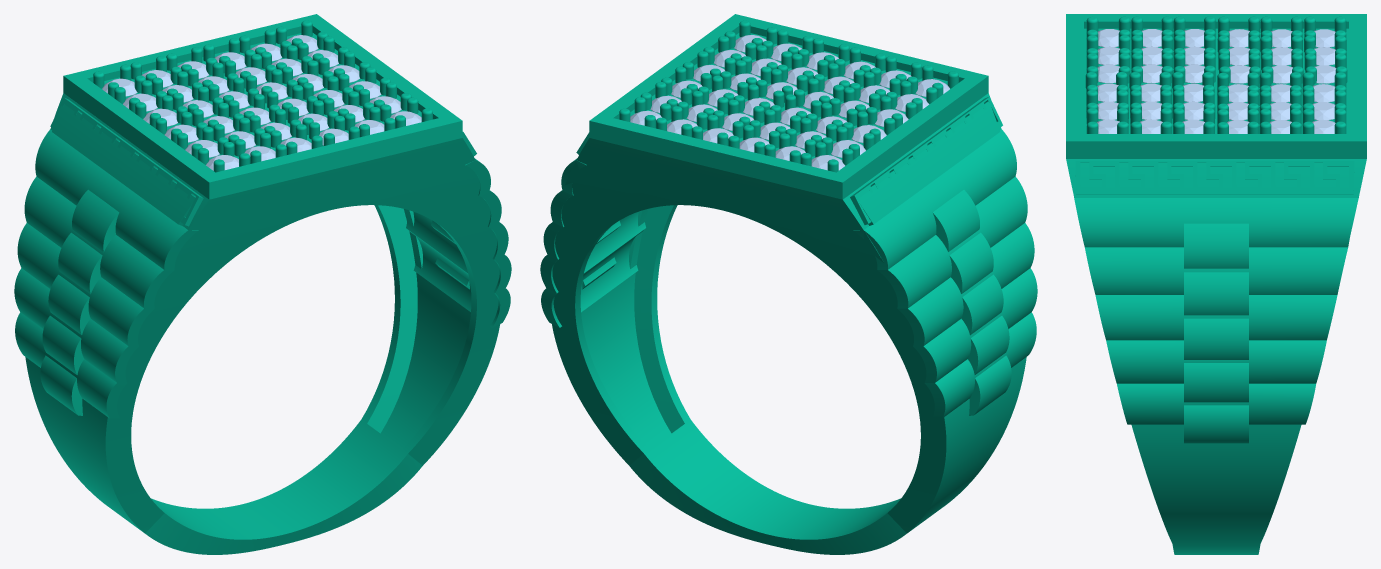
3 renders of one model, left to right at view 1: azimuth 30°, elevation 25°; view 2: azimuth 150°, elevation 25°; view 3: azimuth 270°, elevation 25°, orthographic. The views are drawn at different scales.
Visible parts, largest first — view 1: E 48.3dm; view 2: E 48.3dm; view 3: E 48.3dm, Diamond_Round (×3).
Part boxes in pixels (box(x1,y1,x2,y2)): E 48.3dm: box(14, 14, 511, 554); E 48.3dm: box(540, 14, 1037, 554); E 48.3dm: box(1066, 14, 1366, 554); Diamond_Round (×3): box(1097, 46, 1335, 120).
Size of the model in its own units: 2.58 by 2.62 by 1.58.
